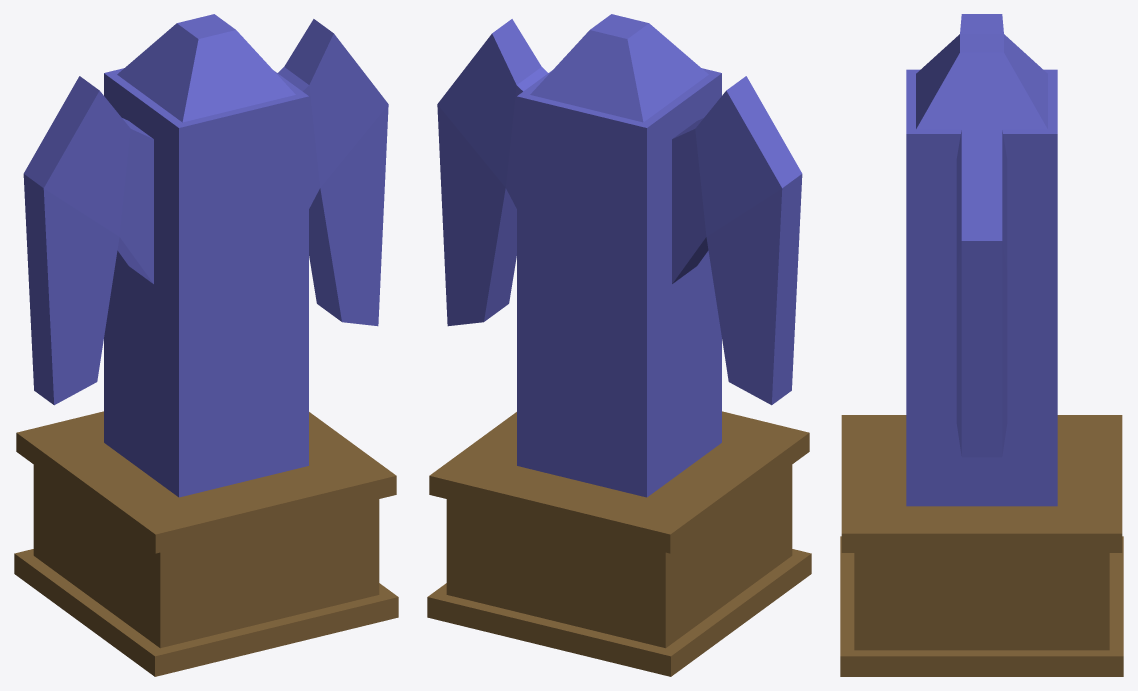
The model's file is rainha.fbx.
3 views of the same model, side by side, from view 1: azimuth 30°, elevation 25°; view 2: azimuth 150°, elevation 25°; view 3: azimuth 270°, elevation 25° (orthographic).
Parts seen in each view (by area): view 1: Plane; view 2: Plane; view 3: Plane.
Boxes of the visible parts, <box> form: Plane: <box>14,14,398,676</box>; Plane: <box>427,14,811,676</box>; Plane: <box>840,14,1123,676</box>.
Bounding box in the file's own units: 567 × 894 × 400.
